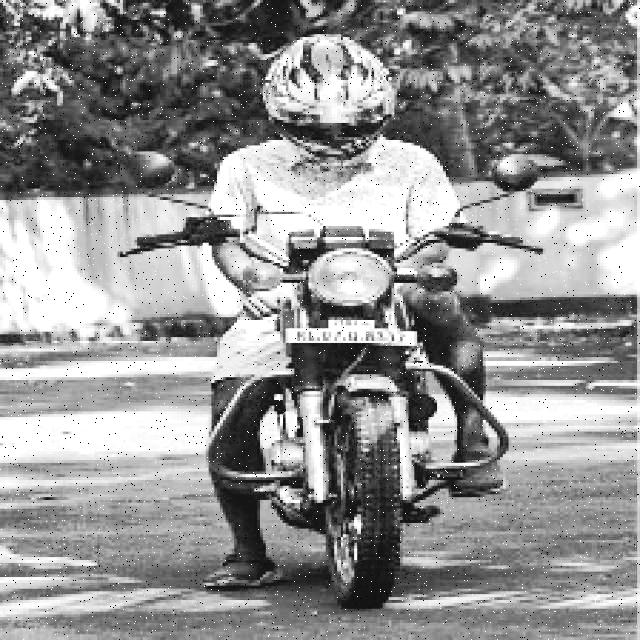Bike: (251, 228, 465, 569)
